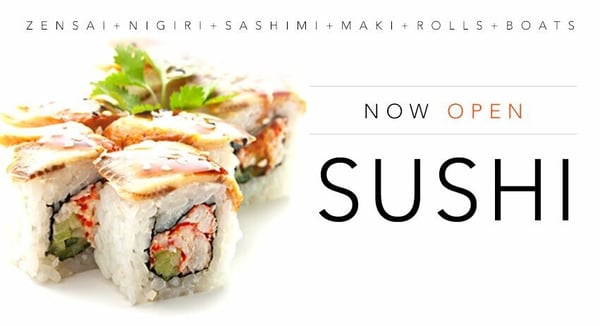soup: (80, 42, 308, 192), (87, 140, 245, 305)
